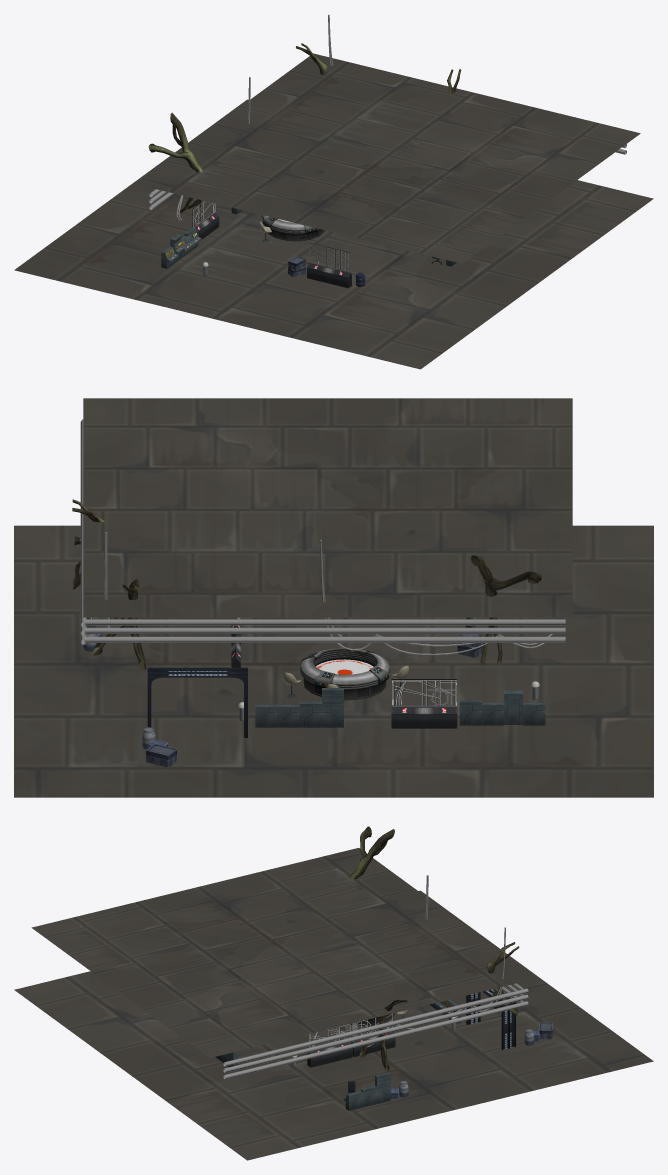
File: env_yav_command_center_pre.glb
3 views of the same model, one above another, from view 1: azimuth 30°, elevation 25°; view 2: azimuth 150°, elevation 25°; view 3: azimuth 270°, elevation 25° (orthographic). The views are drawn at different scales.
Visible parts, largest first — view 1: main_floor (4), main_floor (3), yav_war_table_01_mesh, nal_rootsign_01a_mesh (1), yav_monitor_02_mesh (7); view 2: main_floor (3), main_floor (4), cor_swr_pipes_mesh, yav_war_table_01_mesh, yav_monitor_01_mesh (3), nal_rootsign_01a_mesh (1), emp_arch_04_mesh (1), yav_screen_01_mesh, cor_swr_pipes_mesh (1), yav_console_01a_mesh (2), hangar_swagcable_01_mesh, nal_rootsign_01a_mesh (+5 smaller); view 3: main_floor (4), main_floor (3), cor_swr_pipes_mesh (1), nal_rootsign_01a_mesh (1), emp_arch_04_mesh, yav_monitor_01_mesh (6), nal_rootsign_01a_mesh (2).
Boxes of the visible parts, <box> form: main_floor (4): <box>135,53,640,263</box>; main_floor (3): <box>14,99,653,369</box>; yav_war_table_01_mesh: <box>262,215,324,241</box>; nal_rootsign_01a_mesh (1): <box>148,112,203,212</box>; yav_monitor_02_mesh (7): <box>307,242,351,288</box>; main_floor (3): <box>14,525,653,797</box>; main_floor (4): <box>83,398,572,617</box>; cor_swr_pipes_mesh: <box>85,619,565,642</box>; yav_war_table_01_mesh: <box>300,648,389,700</box>; yav_monitor_01_mesh (3): <box>391,679,457,728</box>; nal_rootsign_01a_mesh (1): <box>471,555,541,664</box>; emp_arch_04_mesh (1): <box>147,672,247,737</box>; yav_screen_01_mesh: <box>392,679,456,706</box>; cor_swr_pipes_mesh (1): <box>80,419,86,644</box>; yav_console_01a_mesh (2): <box>322,688,343,727</box>; hangar_swagcable_01_mesh: <box>320,539,552,655</box>; nal_rootsign_01a_mesh: <box>91,579,146,670</box>; main_floor (4): <box>31,848,536,1057</box>; main_floor (3): <box>14,890,653,1160</box>; cor_swr_pipes_mesh (1): <box>223,988,528,1079</box>; nal_rootsign_01a_mesh (1): <box>349,826,394,879</box>; emp_arch_04_mesh: <box>466,990,509,1050</box>; yav_monitor_01_mesh (6): <box>307,1042,352,1067</box>; nal_rootsign_01a_mesh (2): <box>359,999,407,1072</box>.
Size of the model in its own units: 51.96 by 12.9 by 52.05.
13 materials, 13 textured.
